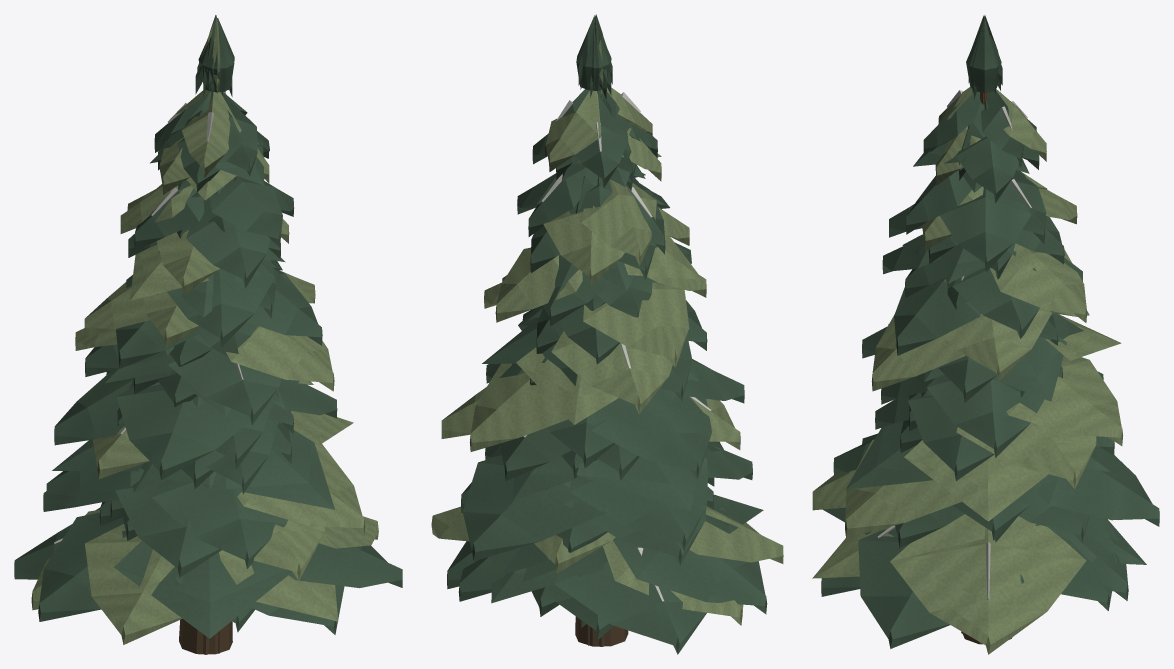
File: AshPine.fbx
3 renders of one model, left to right at view 1: azimuth 30°, elevation 25°; view 2: azimuth 150°, elevation 25°; view 3: azimuth 270°, elevation 25°, orthographic.
Visible parts, largest first — view 1: AshPineDetail0, AshPineDetail1, AshPineDetail2; view 2: AshPineDetail0, AshPineDetail1, AshPineDetail2; view 3: AshPineDetail0, AshPineDetail1, AshPineDetail2.
Boxes of the visible parts, bbox=[...] form: AshPineDetail0: bbox=[14, 15, 402, 654]; AshPineDetail1: bbox=[38, 15, 365, 654]; AshPineDetail2: bbox=[52, 15, 377, 653]; AshPineDetail0: bbox=[431, 15, 752, 654]; AshPineDetail1: bbox=[458, 14, 783, 646]; AshPineDetail2: bbox=[433, 16, 763, 645]; AshPineDetail0: bbox=[812, 15, 1159, 654]; AshPineDetail1: bbox=[833, 15, 1128, 600]; AshPineDetail2: bbox=[812, 16, 1146, 636].
Size of the model in its own units: 414 by 735 by 371.
Materials: 1 (1 with a texture image).
